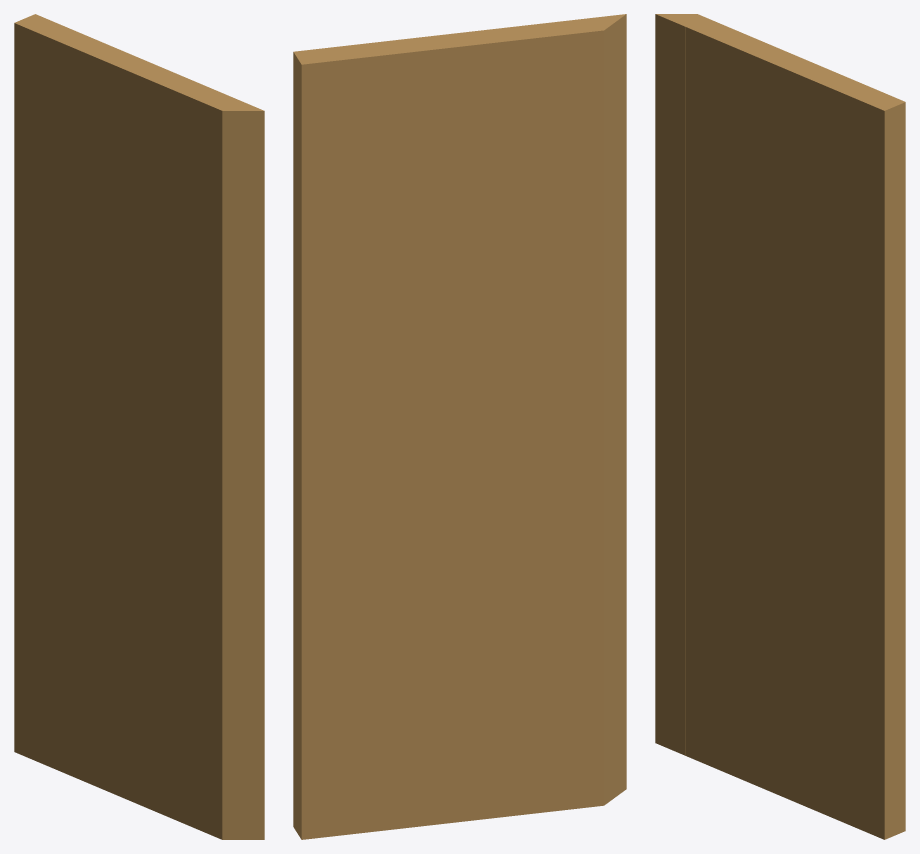
3 views of the same model, side by side, from view 1: azimuth 90°, elevation 25°; view 2: azimuth 150°, elevation 25°; view 3: azimuth 270°, elevation 25° (orthographic). The views are drawn at different scales.
Visible parts, largest first — view 1: FF-W047; view 2: FF-W047; view 3: FF-W047.
Boxes of the visible parts, box(x1,y1,x2,y2) form: FF-W047: box(14, 14, 264, 839); FF-W047: box(293, 14, 626, 839); FF-W047: box(655, 14, 905, 839).
Size of the model in its own units: 0.69 by 2.42 by 0.7537.
